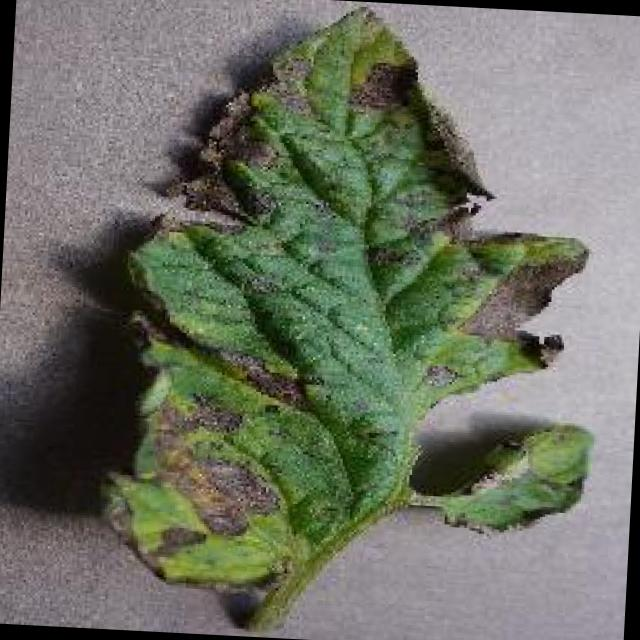Tomato_Early_Blight: (91, 19, 580, 606)
